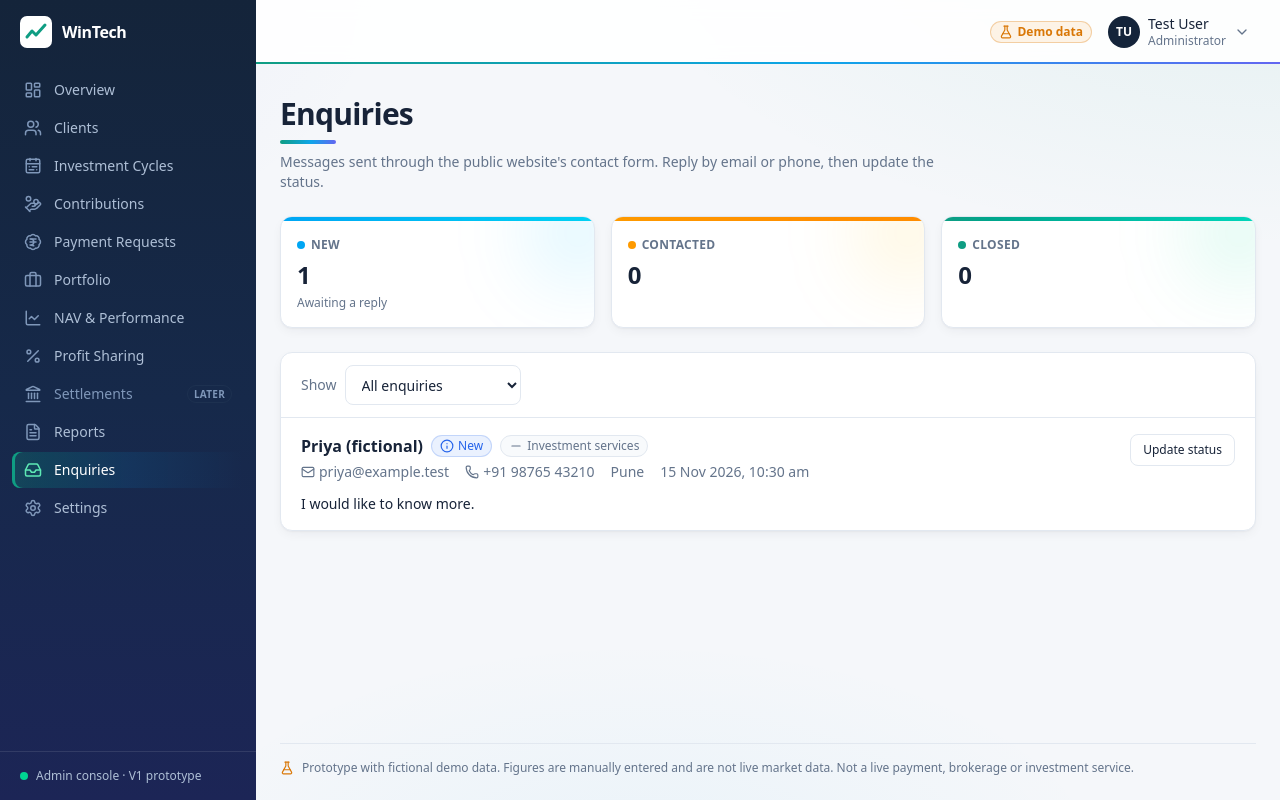
admin enquiries page › lists enquiries and updates the status with a note
Later steps or results of the test are not shown.
expect the text "I would like to know more." is shown: met, box x1=301 y1=494 x2=474 y2=513
Click the button "Update status" at [1183, 450], box x1=1130 y1=434 x2=1235 y2=466
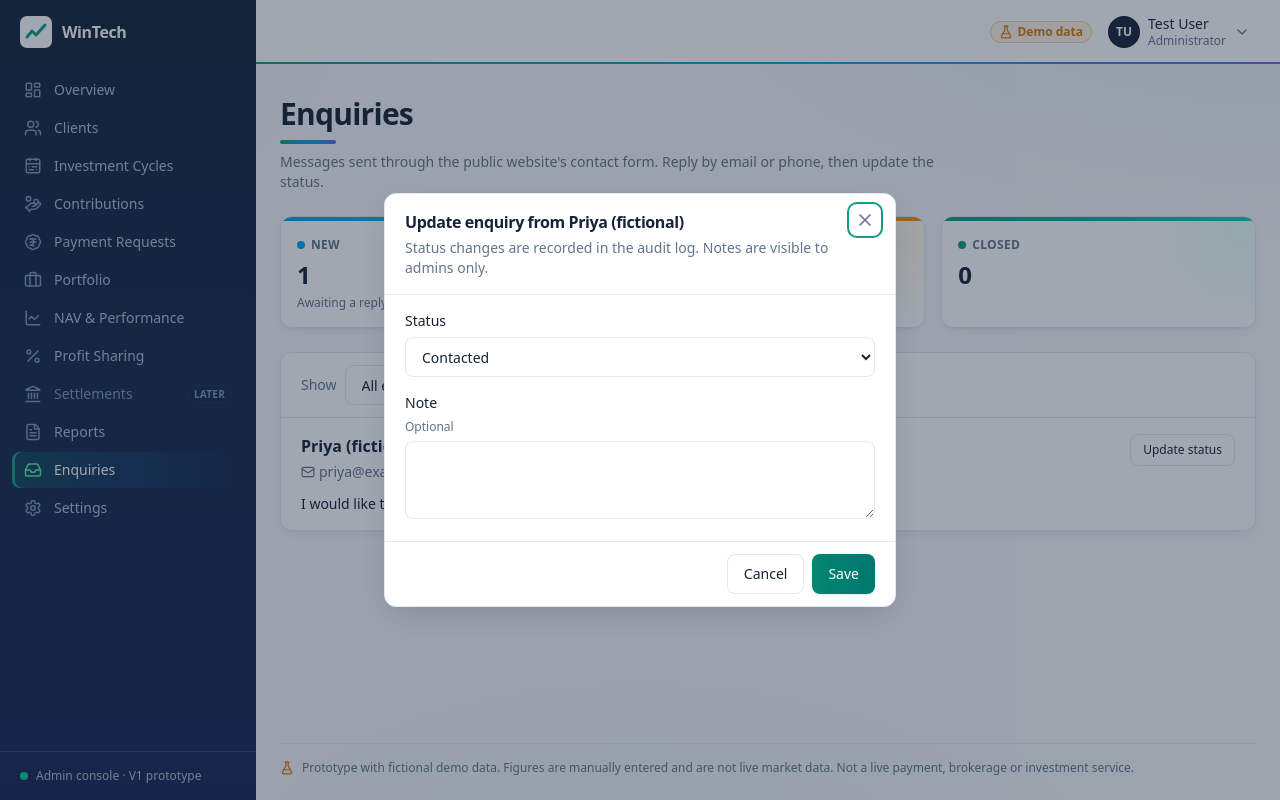
expect the dropdown labelled "Status" shows "Contacted": met, box x1=405 y1=337 x2=875 y2=377
